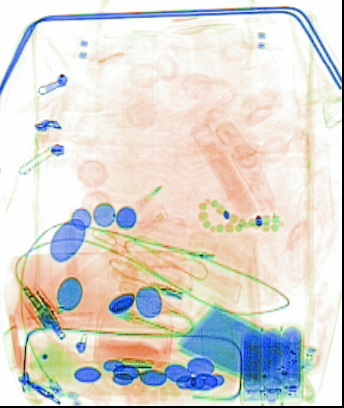powerbank: (237, 323, 306, 404)
